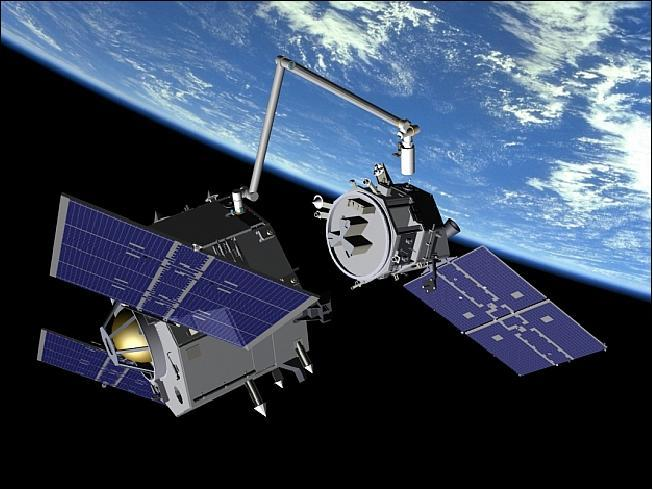antenna: (99, 300, 167, 382), (243, 377, 269, 418), (294, 341, 315, 375), (311, 193, 334, 210), (271, 366, 286, 390), (202, 191, 221, 204), (349, 280, 368, 291), (151, 209, 162, 225)
body: (108, 195, 311, 419), (324, 182, 452, 284)
solar: (48, 191, 321, 351), (401, 244, 610, 377), (36, 327, 165, 405)
thruster: (442, 215, 462, 239)
